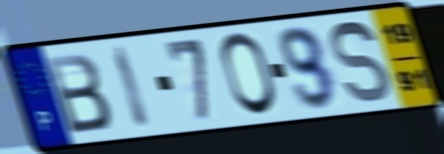7: (162, 36, 214, 124)
9: (275, 23, 341, 112)
B: (41, 50, 114, 137)
I: (110, 43, 155, 131)
O: (218, 30, 280, 119)
S: (329, 18, 393, 106)
